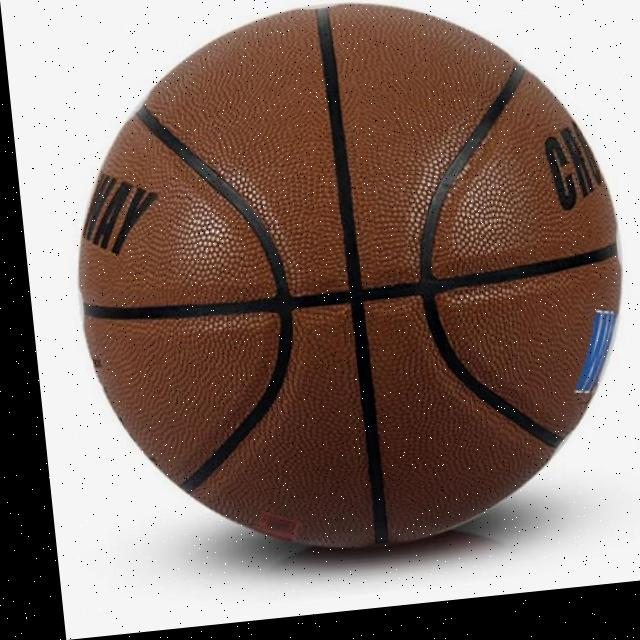Basketball: (53, 0, 640, 571)
